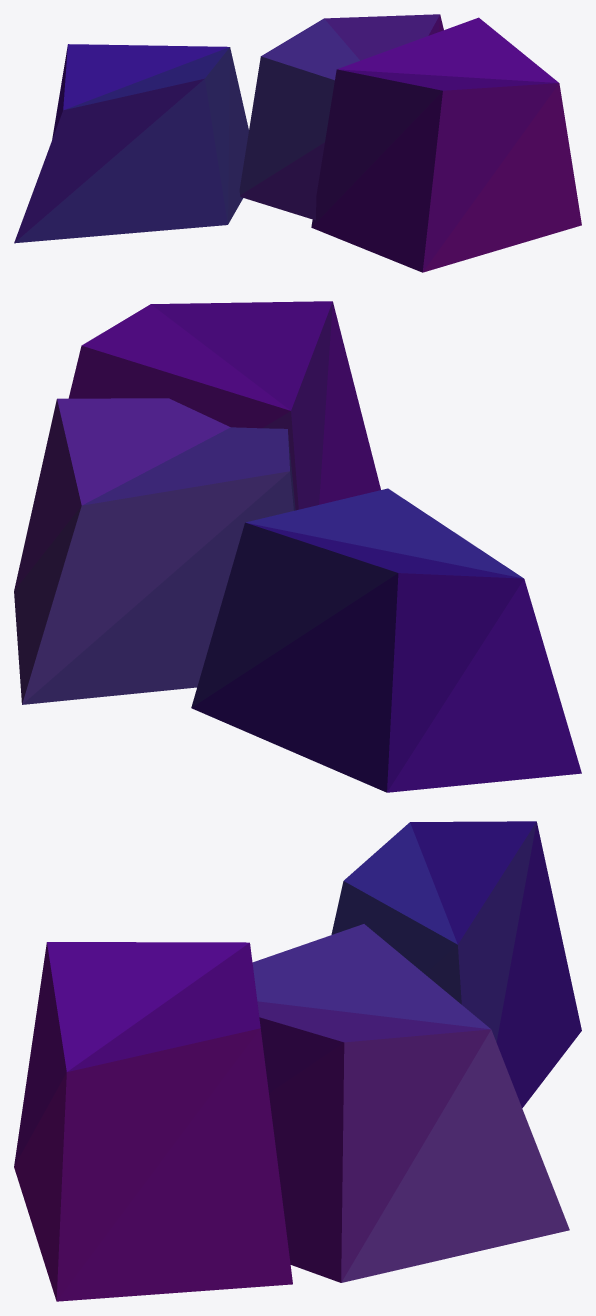
File: SM_CinderCanyon_Chip_A.fbx
3 views of the same model, one above another, from view 1: azimuth 30°, elevation 25°; view 2: azimuth 150°, elevation 25°; view 3: azimuth 270°, elevation 25° (orthographic). The views are drawn at different scales.
Visible parts, largest first — view 1: SM_CinderCanyon_Chip_A; view 2: SM_CinderCanyon_Chip_A; view 3: SM_CinderCanyon_Chip_A.
Part boxes in pixels (<box>): SM_CinderCanyon_Chip_A: <box>14,14,581,272</box>; SM_CinderCanyon_Chip_A: <box>14,301,581,792</box>; SM_CinderCanyon_Chip_A: <box>14,821,581,1301</box>.
Bounding box in the file's own units: 100 × 74 × 38.
